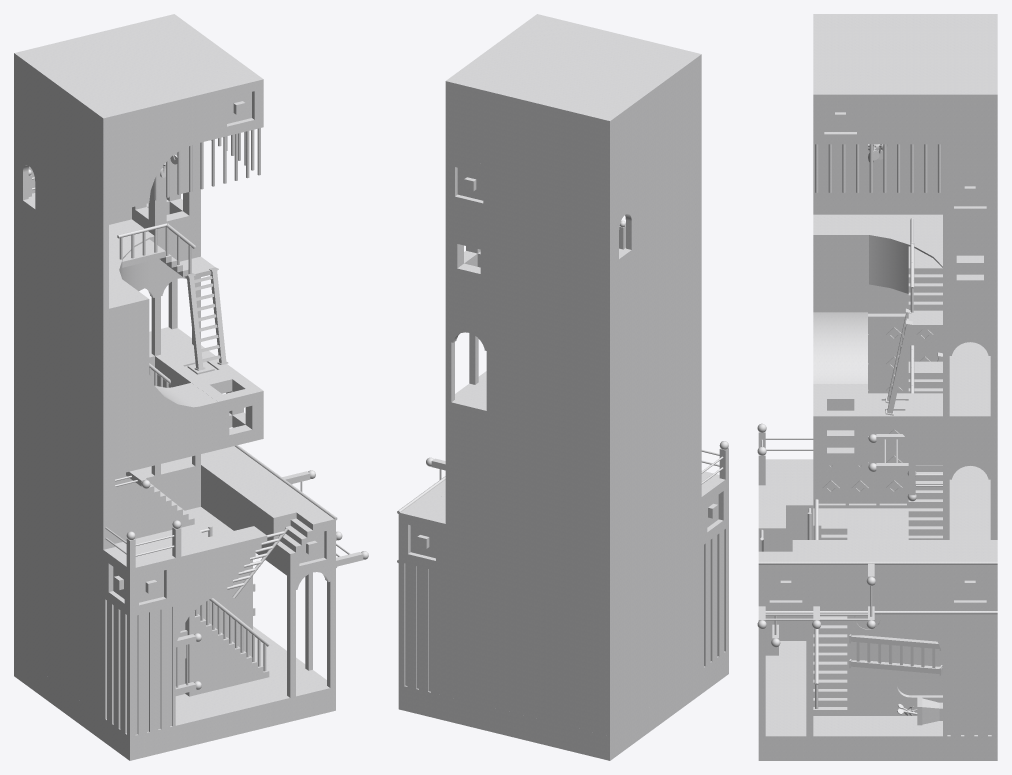
Rendered from texturedtower.glb.
3 views of the same model, side by side, from view 1: azimuth 30°, elevation 25°; view 2: azimuth 150°, elevation 25°; view 3: azimuth 270°, elevation 25° (orthographic). The views are drawn at different scales.
Parts seen in each view (by area): view 1: Part235_n3d, Union18_n3d, Part362_n3d, Union3_n3d, Part24_n3d, Union54_n3d, Union17_n3d, Part310_n3d, Union57_n3d, Union63_n3d, Union4_n3d, Part168_n3d (+25 smaller); view 2: Union54_n3d, Part235_n3d, Part50_n3d, Part211_n3d, Union3_n3d, Part188_n3d, Union18_n3d, Part216_n3d, Part23_n3d, Part362_n3d, Union57_n3d, Union43_n3d (+14 smaller); view 3: Part362_n3d, Part235_n3d, Part239_n3d, Union57_n3d, Part310_n3d, Union18_n3d, Union54_n3d, Union3_n3d, Union43_n3d, Part188_n3d, Part24_n3d, Union64_n3d (+40 smaller).
Part boxes in pixels (bbox=[...]): Part235_n3d: bbox=[14, 25, 217, 166]; Union18_n3d: bbox=[40, 360, 114, 597]; Part362_n3d: bbox=[14, 626, 335, 760]; Union3_n3d: bbox=[17, 103, 108, 309]; Part24_n3d: bbox=[77, 279, 149, 476]; Union54_n3d: bbox=[14, 507, 252, 705]; Union17_n3d: bbox=[103, 598, 175, 736]; Part310_n3d: bbox=[201, 454, 307, 557]; Union57_n3d: bbox=[132, 143, 200, 283]; Union63_n3d: bbox=[263, 500, 335, 577]; Union4_n3d: bbox=[103, 539, 175, 616]; Part168_n3d: bbox=[149, 382, 217, 466]; Union54_n3d: bbox=[439, 553, 684, 736]; Part235_n3d: bbox=[492, 25, 701, 170]; Part50_n3d: bbox=[492, 142, 613, 317]; Part211_n3d: bbox=[445, 450, 611, 563]; Union3_n3d: bbox=[613, 105, 701, 314]; Part188_n3d: bbox=[445, 382, 637, 490]; Union18_n3d: bbox=[637, 376, 701, 592]; Part216_n3d: bbox=[445, 524, 637, 613]; Part23_n3d: bbox=[486, 337, 611, 440]; Part362_n3d: bbox=[398, 649, 728, 760]; Union57_n3d: bbox=[445, 155, 492, 338]; Union43_n3d: bbox=[398, 562, 445, 695]; Part362_n3d: bbox=[758, 641, 997, 760]; Part235_n3d: bbox=[813, 14, 997, 71]; Part239_n3d: bbox=[868, 71, 997, 144]; Union57_n3d: bbox=[943, 169, 997, 341]; Part310_n3d: bbox=[813, 540, 942, 610]; Union18_n3d: bbox=[813, 313, 942, 508]; Union54_n3d: bbox=[847, 508, 942, 715]; Union3_n3d: bbox=[813, 144, 942, 214]; Union43_n3d: bbox=[943, 614, 997, 736]; Part188_n3d: bbox=[943, 342, 997, 465]; Part24_n3d: bbox=[813, 214, 867, 312]; Union64_n3d: bbox=[813, 71, 867, 144].
Bounding box in the file's own units: 1.67 × 4.12 × 1.39.
Materials: 1 (1 with a texture image).
